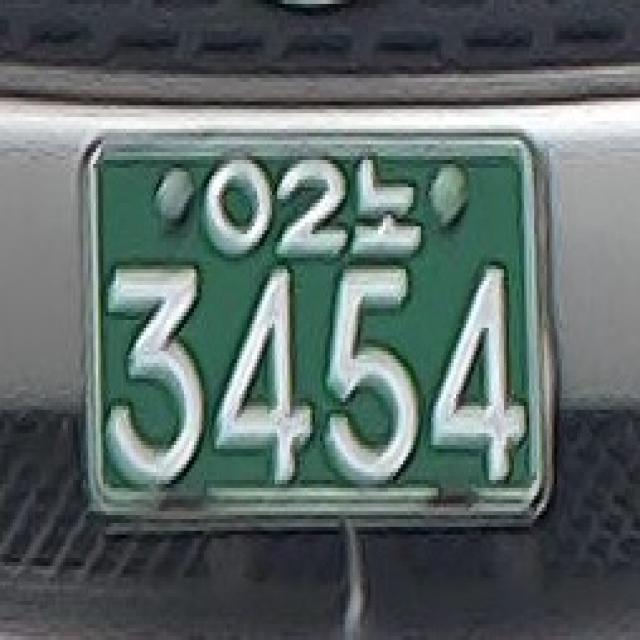0: (199, 154, 277, 266)
2: (280, 162, 354, 266)
3: (104, 264, 208, 499)
4: (214, 267, 316, 490), (434, 259, 528, 487)
5: (322, 265, 429, 485)
license_plate: (73, 123, 562, 546)
no: (356, 154, 432, 262)
